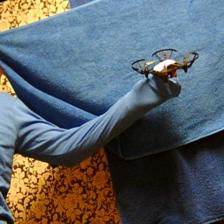drone: (130, 47, 202, 83)
